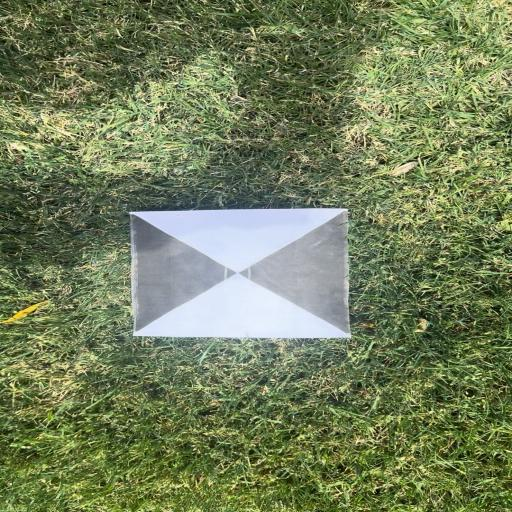target: (131, 212, 351, 336)
